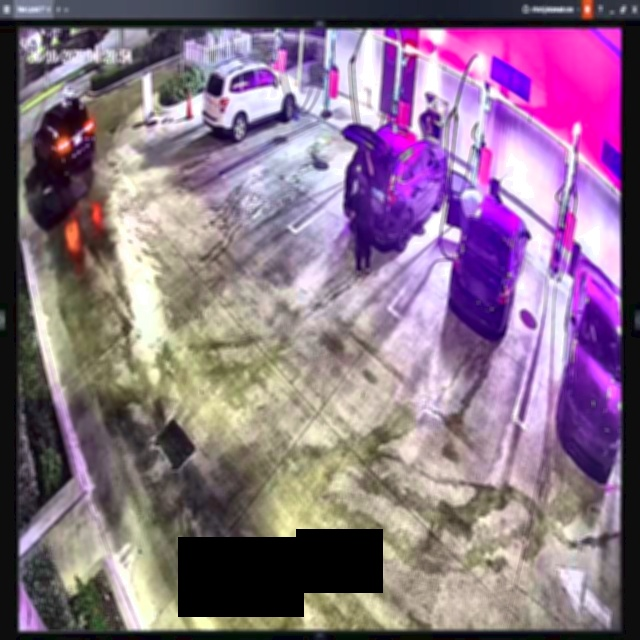Car: (342, 121, 447, 248), (451, 170, 527, 340), (204, 62, 297, 140)
